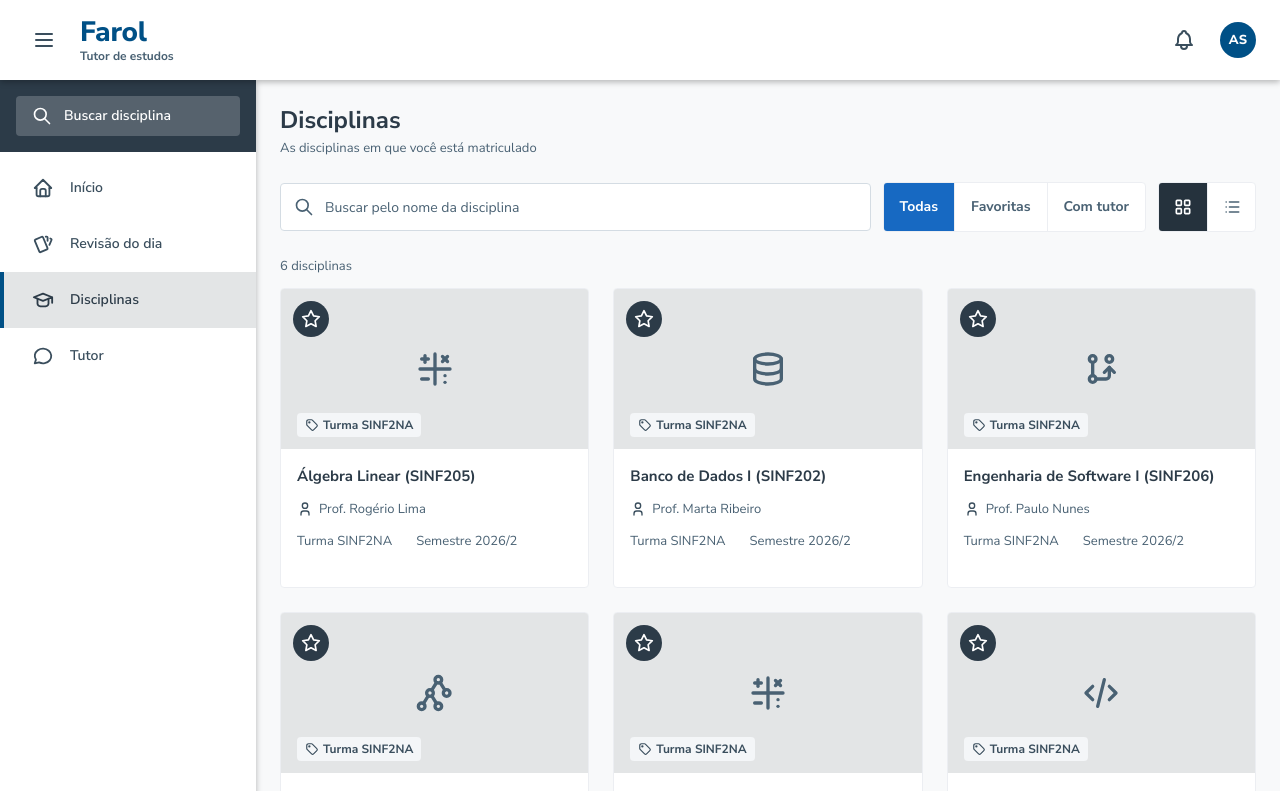
abas e favoritos (ACE-T35) › marcar uma disciplina como favorita faz ela aparecer na aba Favoritas
Click the button named "Favoritar Estruturas de Dados" at [311, 643], box [293, 625, 329, 661]
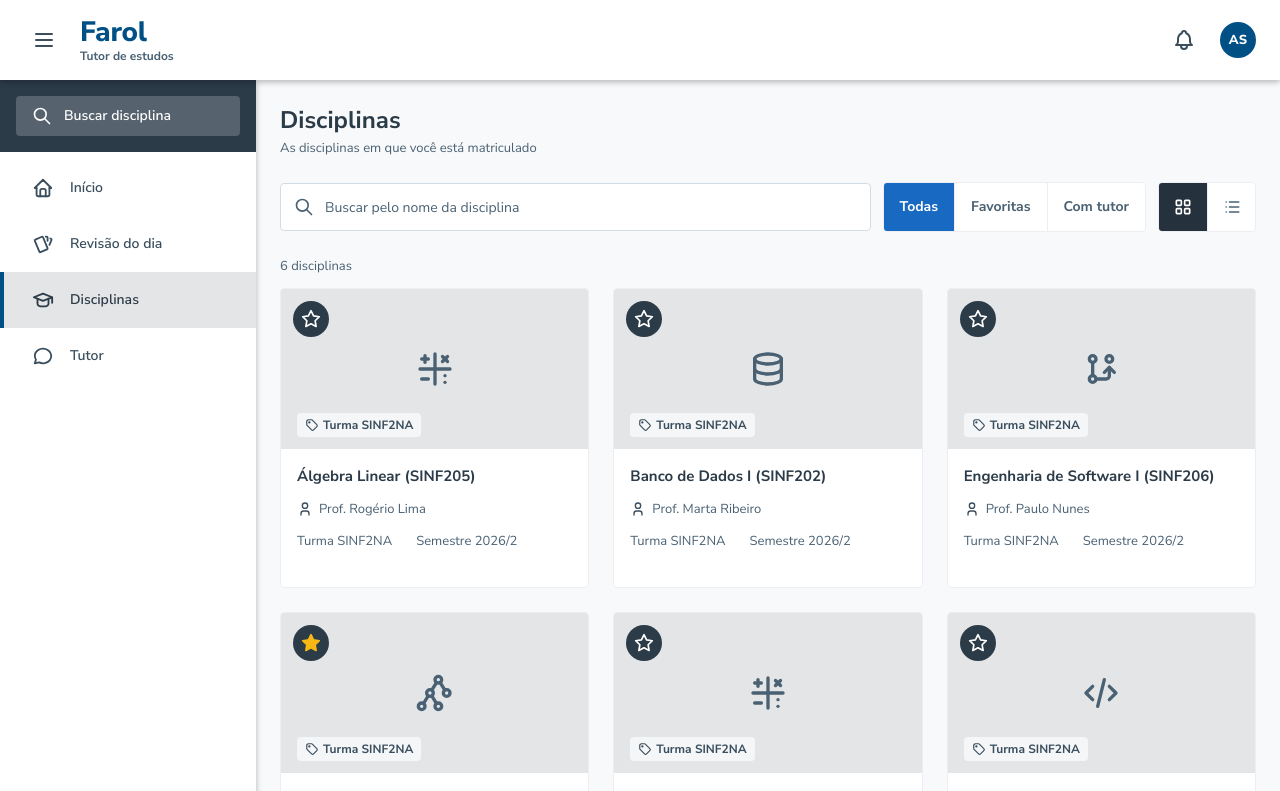
Expected: the button named "Favoritar Estruturas de Dados" is pressed, [293, 625, 329, 661]
Click the tab "Favoritas" at [1000, 207], box [954, 183, 1046, 231]
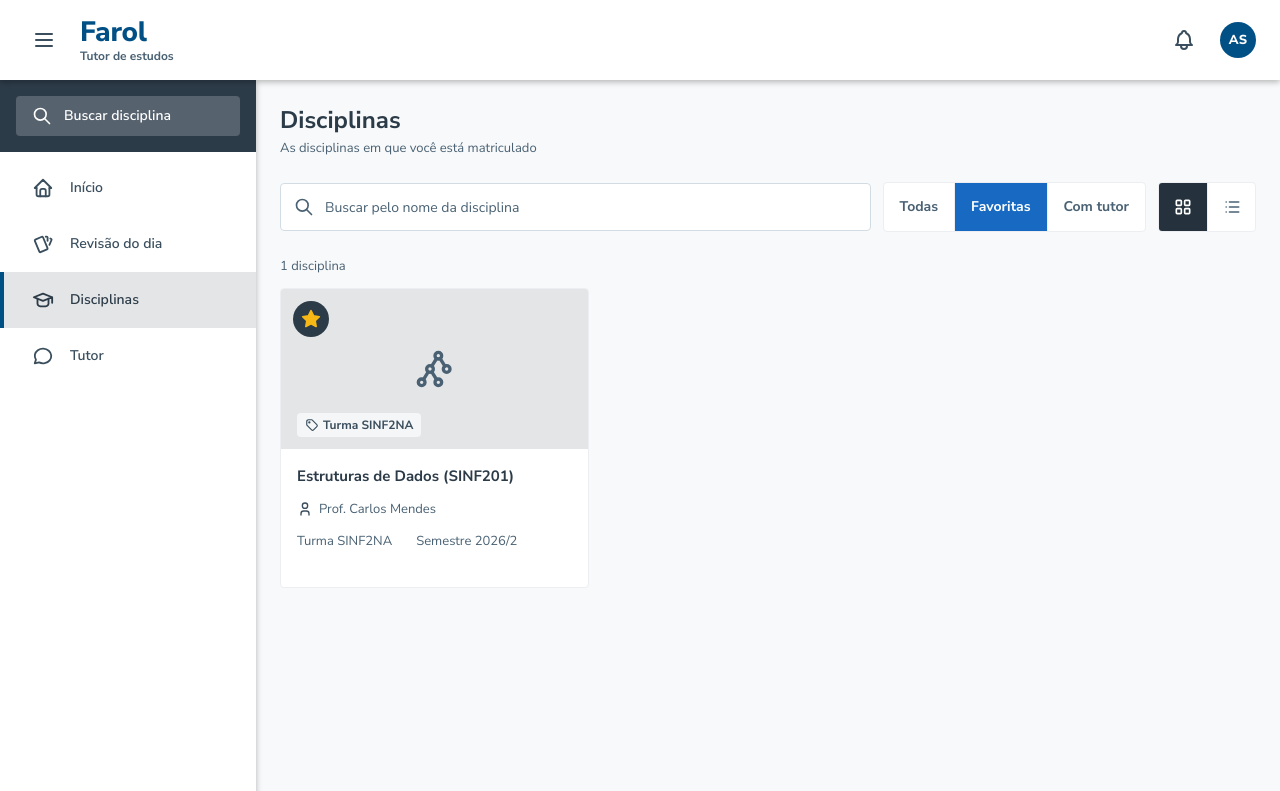
Expected: the link "Estruturas de Dados (SINF201)" is shown, [297, 466, 514, 486]
Expected: the number of list items is 1, [280, 288, 589, 588]
